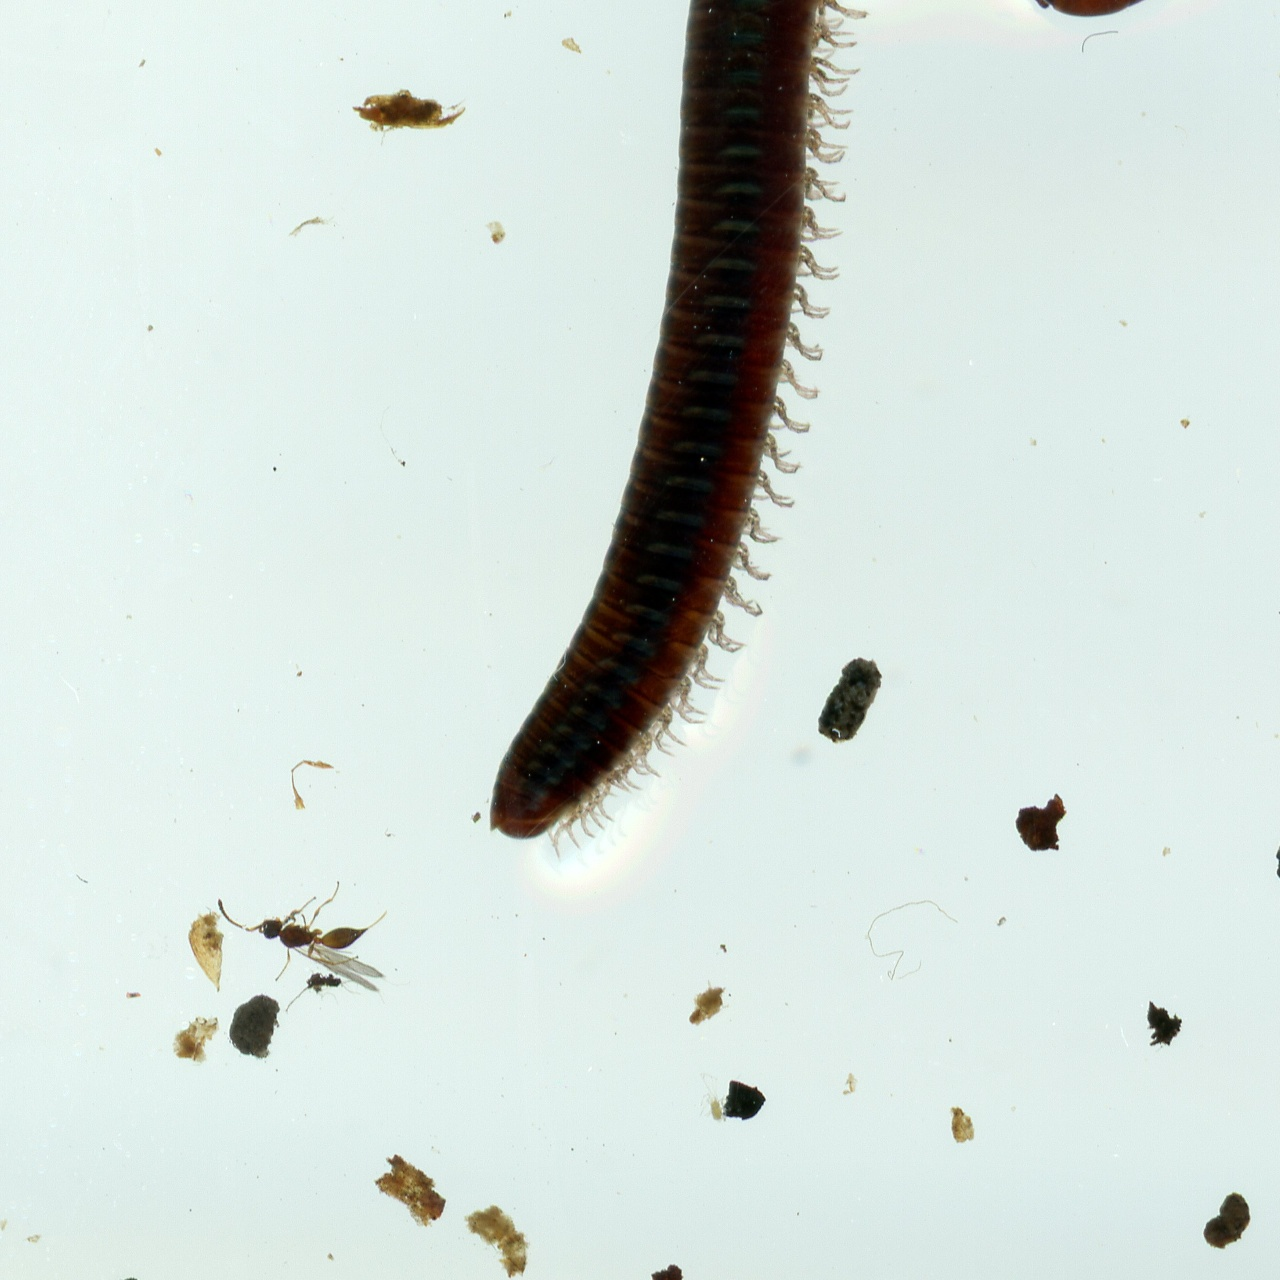arthropod: (379, 0, 1280, 1009), (213, 876, 393, 994), (693, 1070, 733, 1126)
